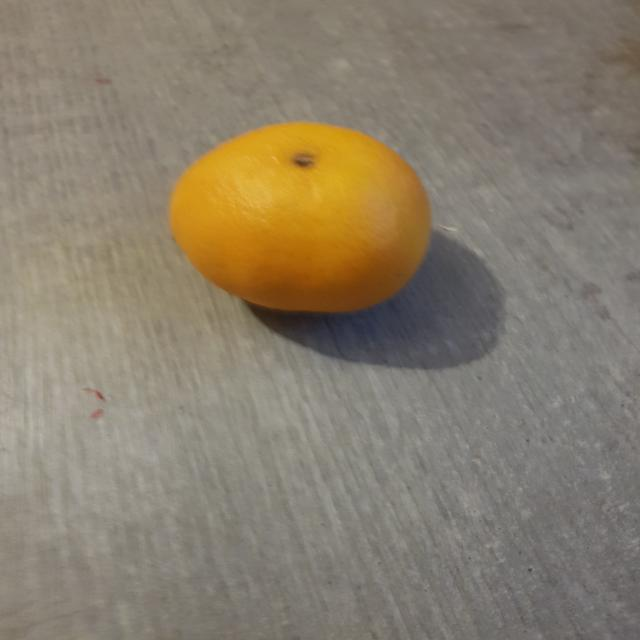Orange: (168, 122, 433, 313)
